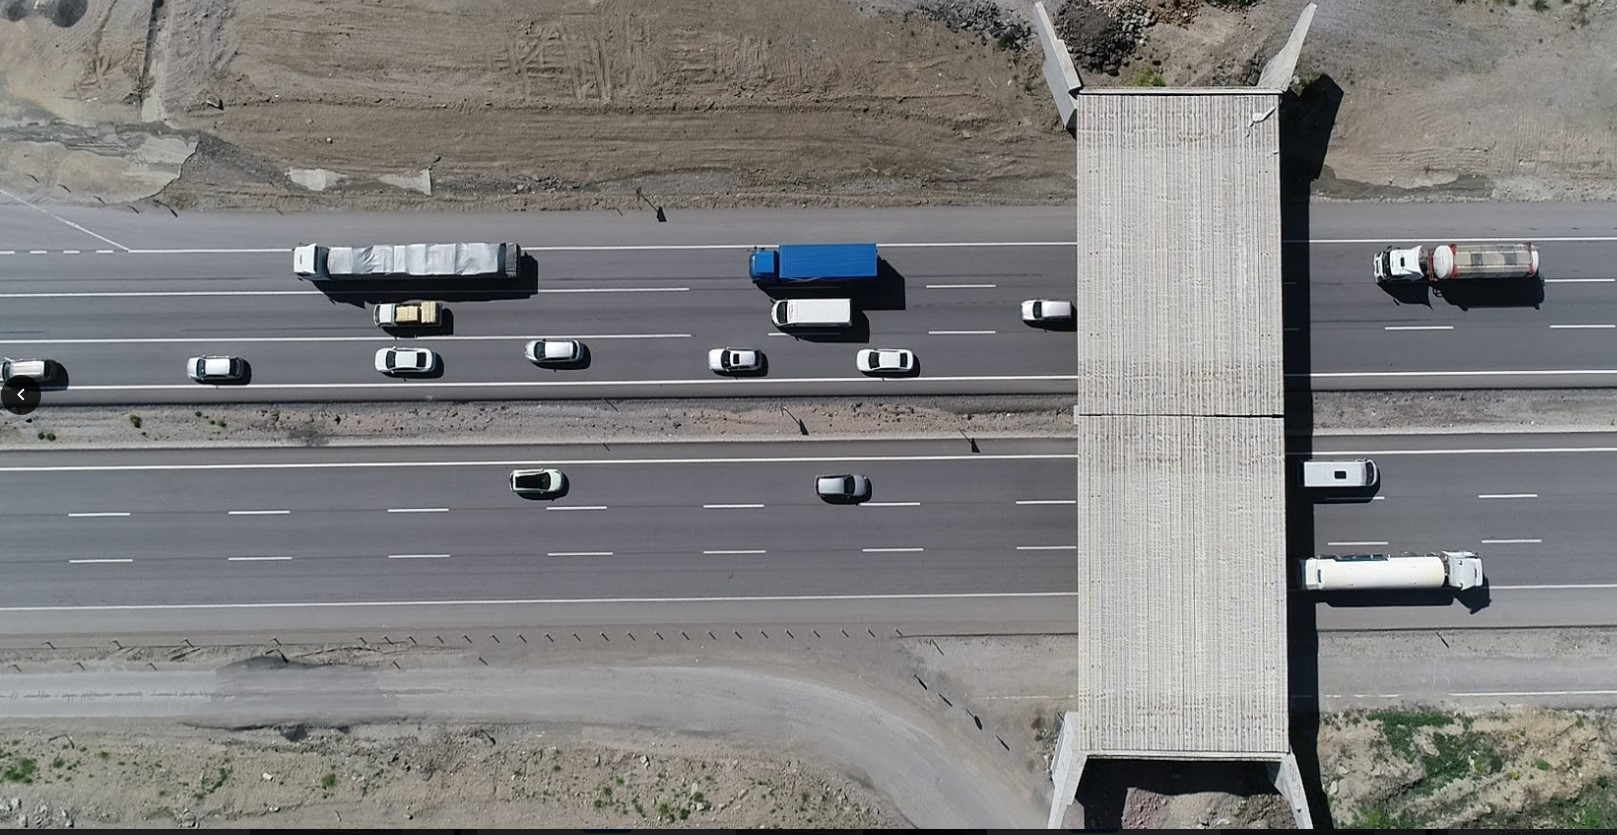araba: (285, 234, 532, 286), (744, 234, 889, 293), (1365, 244, 1538, 290), (1297, 558, 1495, 597), (364, 298, 462, 344), (765, 293, 856, 334), (504, 458, 576, 498), (698, 342, 764, 381), (370, 343, 440, 380), (183, 348, 249, 383), (519, 341, 592, 369), (846, 342, 913, 372), (813, 471, 875, 503), (1020, 293, 1072, 327)
